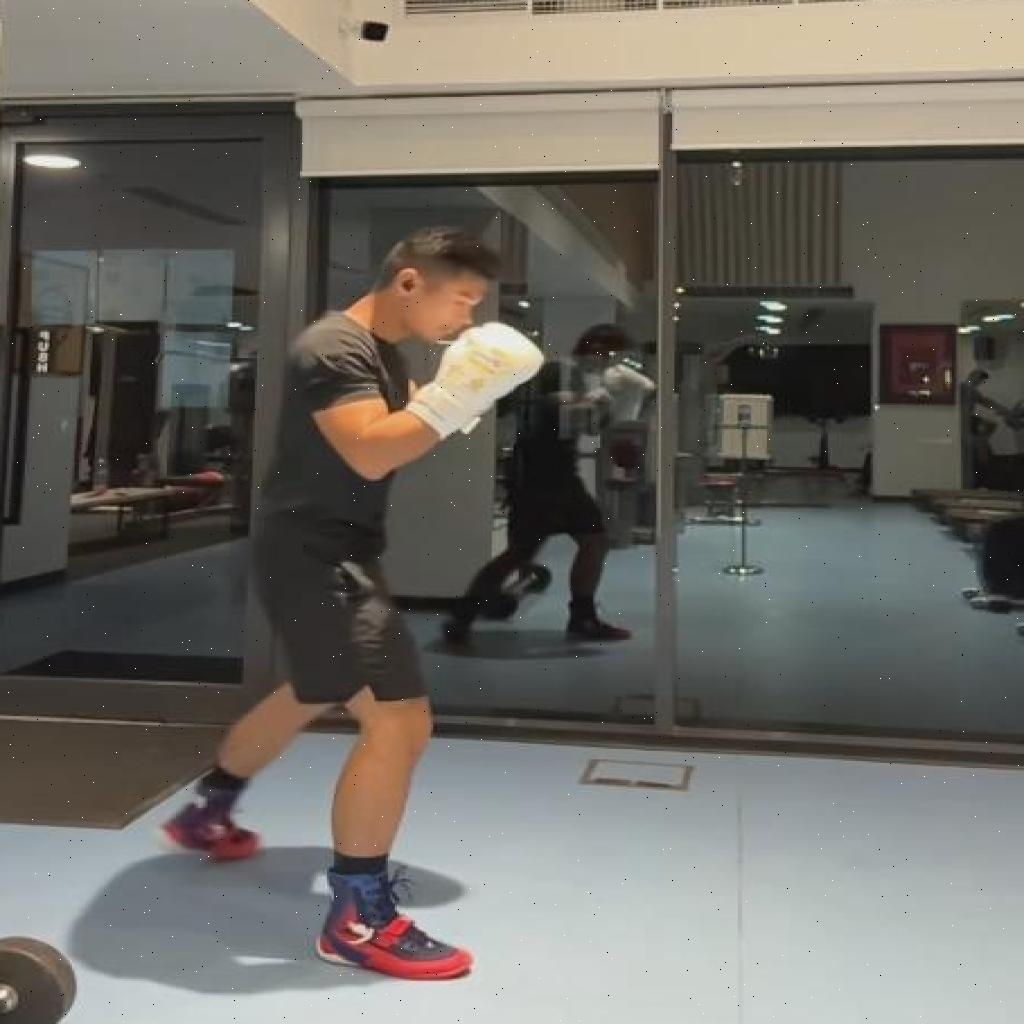no punch: (158, 224, 548, 982)
